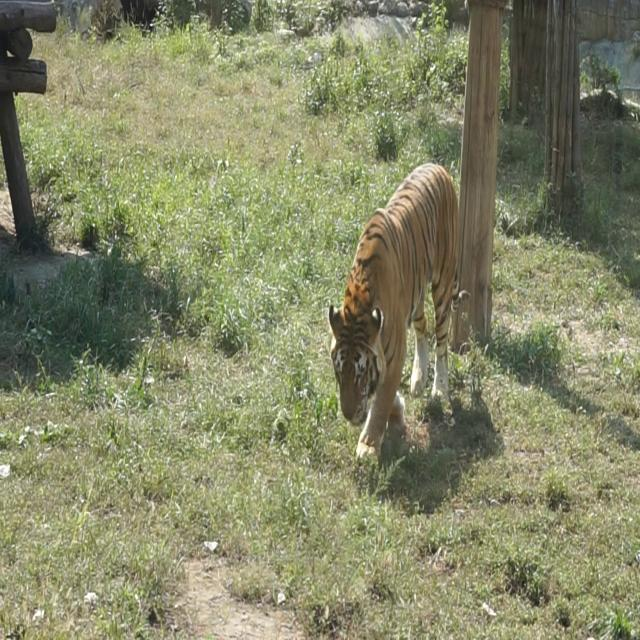Tiger: (317, 163, 478, 497)
